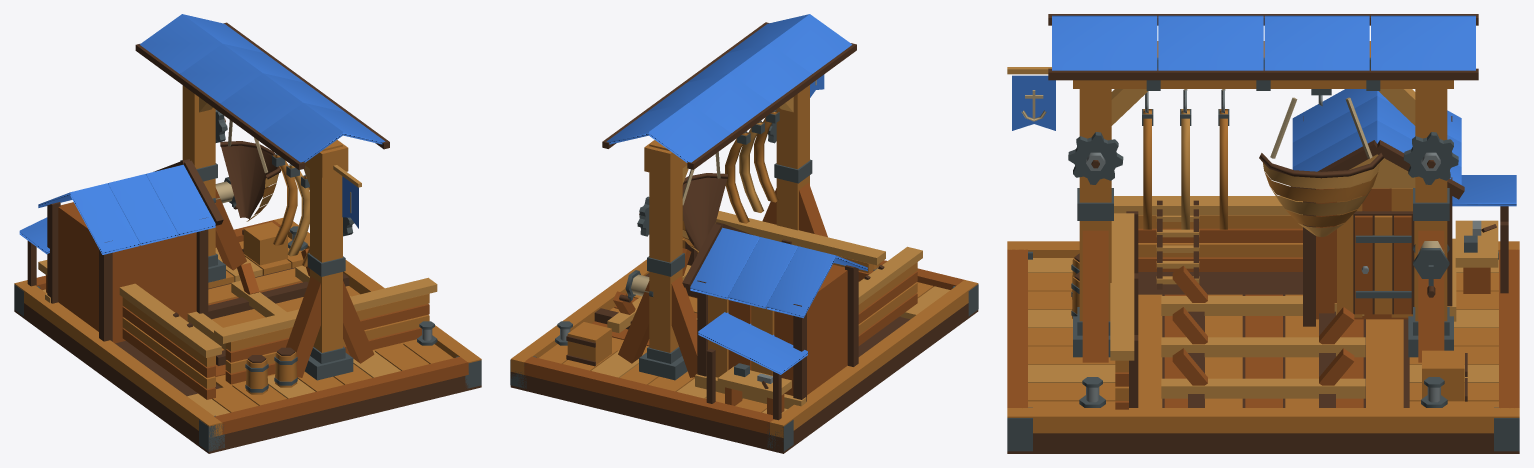
The picture shows the model from 3 angles, left to right: view 1: azimuth 30°, elevation 25°; view 2: azimuth 150°, elevation 25°; view 3: azimuth 270°, elevation 25°; orthographic projection. The views are drawn at different scales.
Parts seen in each view (by area): view 1: Shipwright Refit Center; view 2: Shipwright Refit Center; view 3: Shipwright Refit Center.
Boxes of the visible parts, <box> form: Shipwright Refit Center: <box>14,14,481,453</box>; Shipwright Refit Center: <box>510,14,978,453</box>; Shipwright Refit Center: <box>1007,14,1519,453</box>.
Size of the model in its own units: 1.36 by 1.3 by 1.68.
